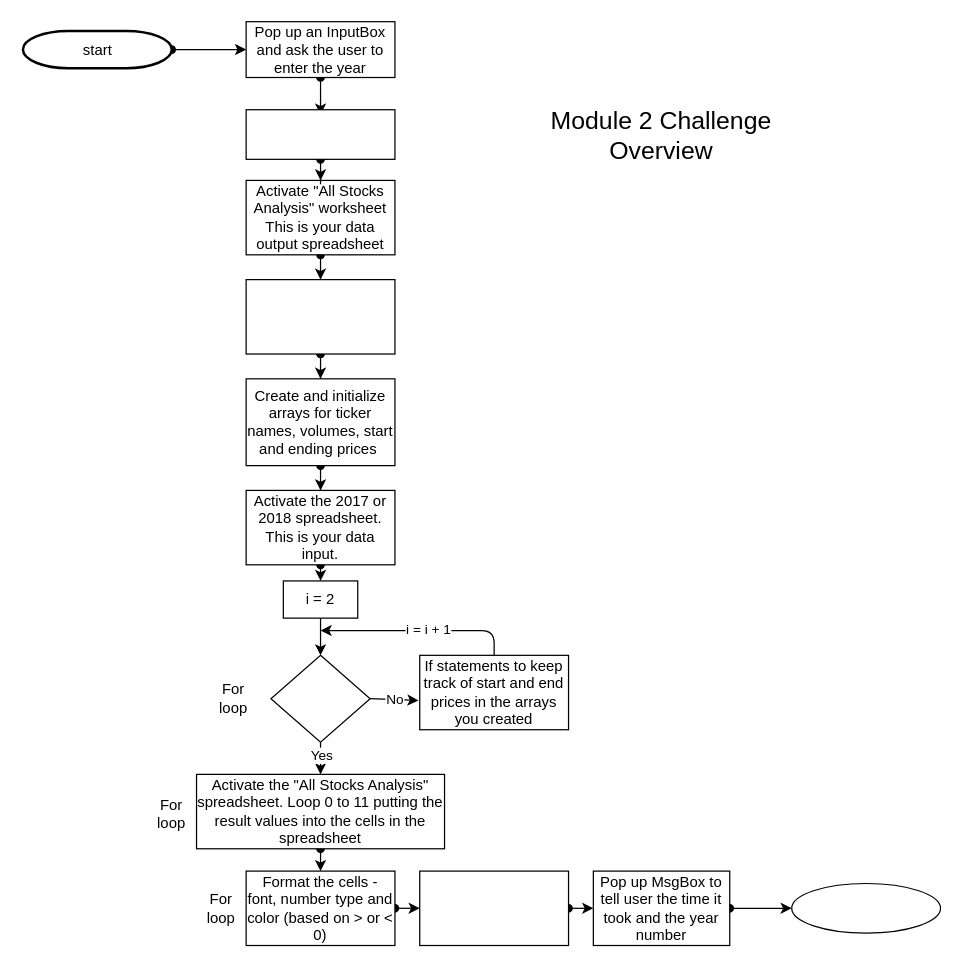
Some shapes in this 962 by 967 pixel diagram are drawn without their labels. The shapes that lost their labels are listed below. From the top down, each one's centre as x and y in pixels, then its label:
At (320,133): "Get start time".
At (320,316): "Create the column headers".
At (320,698): "is i > rowCount?".
At (493,908): "Get end time".
At (865,907): "End".
